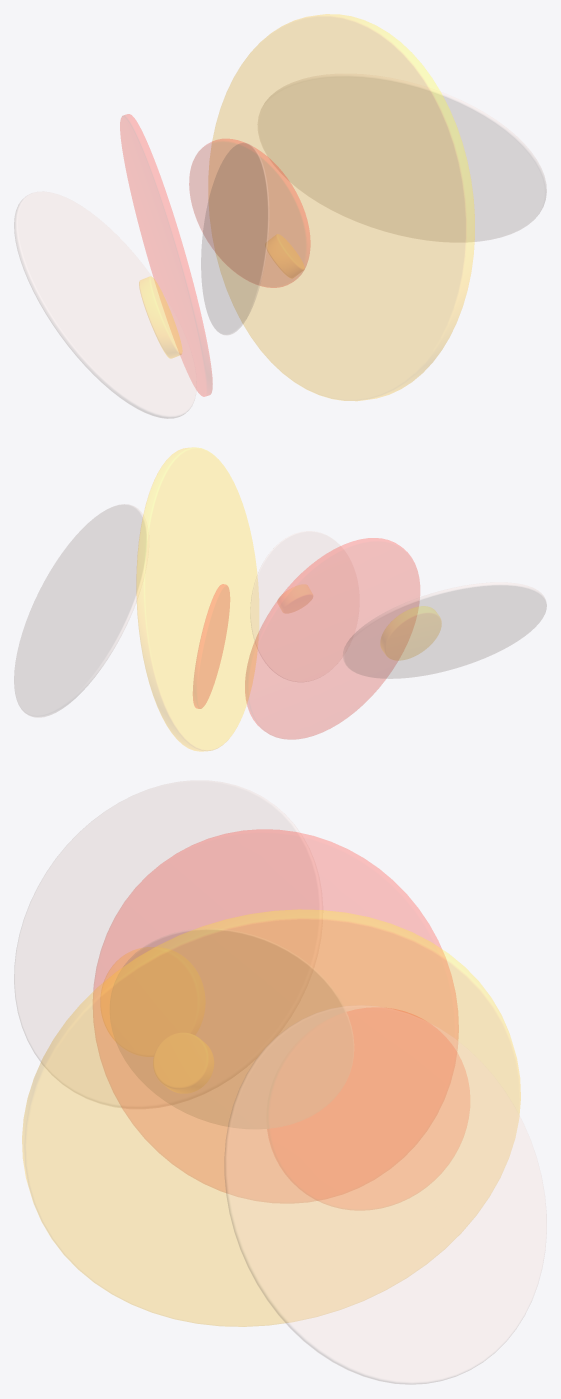
3 renders of one model, top to bottom at view 1: azimuth 30°, elevation 25°; view 2: azimuth 150°, elevation 25°; view 3: azimuth 270°, elevation 25°, orthographic. The views are drawn at different scales.
Parts seen in each view (by area): view 1: Cylinder.002, Cylinder.010, Cylinder.008, Cylinder.003, Cylinder.005, Cylinder.006, Cylinder.007, Cylinder.004; view 2: Cylinder.002, Cylinder.006, Cylinder.010, Cylinder.008, Cylinder.005, Cylinder.003, Cylinder.007; view 3: Cylinder.002, Cylinder.010, Cylinder.008, Cylinder.006, Cylinder.005, Cylinder.004, Cylinder.007.
Part boxes in pixels (left/top/right/bottom): Cylinder.002: left=209, top=14, right=474, bottom=400; Cylinder.010: left=258, top=74, right=546, bottom=241; Cylinder.008: left=14, top=191, right=196, bottom=418; Cylinder.003: left=189, top=139, right=310, bottom=287; Cylinder.005: left=201, top=143, right=269, bottom=334; Cylinder.006: left=120, top=114, right=212, bottom=396; Cylinder.007: left=139, top=276, right=182, bottom=358; Cylinder.004: left=265, top=234, right=304, bottom=278; Cylinder.002: left=136, top=447, right=258, bottom=751; Cylinder.006: left=245, top=538, right=419, bottom=739; Cylinder.010: left=14, top=504, right=148, bottom=717; Cylinder.008: left=343, top=582, right=546, bottom=678; Cylinder.005: left=250, top=531, right=358, bottom=681; Cylinder.003: left=193, top=584, right=229, bottom=708; Cylinder.007: left=381, top=606, right=441, bottom=659; Cylinder.002: left=22, top=909, right=520, bottom=1326; Cylinder.010: left=224, top=1005, right=546, bottom=1384; Cylinder.008: left=14, top=780, right=322, bottom=1107; Cylinder.006: left=93, top=829, right=458, bottom=1192; Cylinder.005: left=110, top=929, right=342, bottom=1126; Cylinder.004: left=153, top=1033, right=213, bottom=1092; Cylinder.007: left=101, top=947, right=153, bottom=1038.
Bounding box in the file's own units: 23.37 × 13.4 × 14.34.
